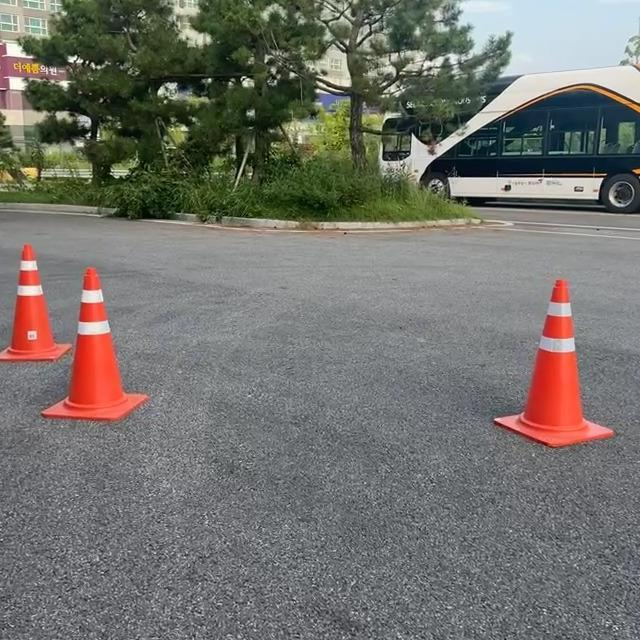fallen_object: (465, 267, 619, 494), (37, 257, 161, 428), (0, 213, 87, 371)
